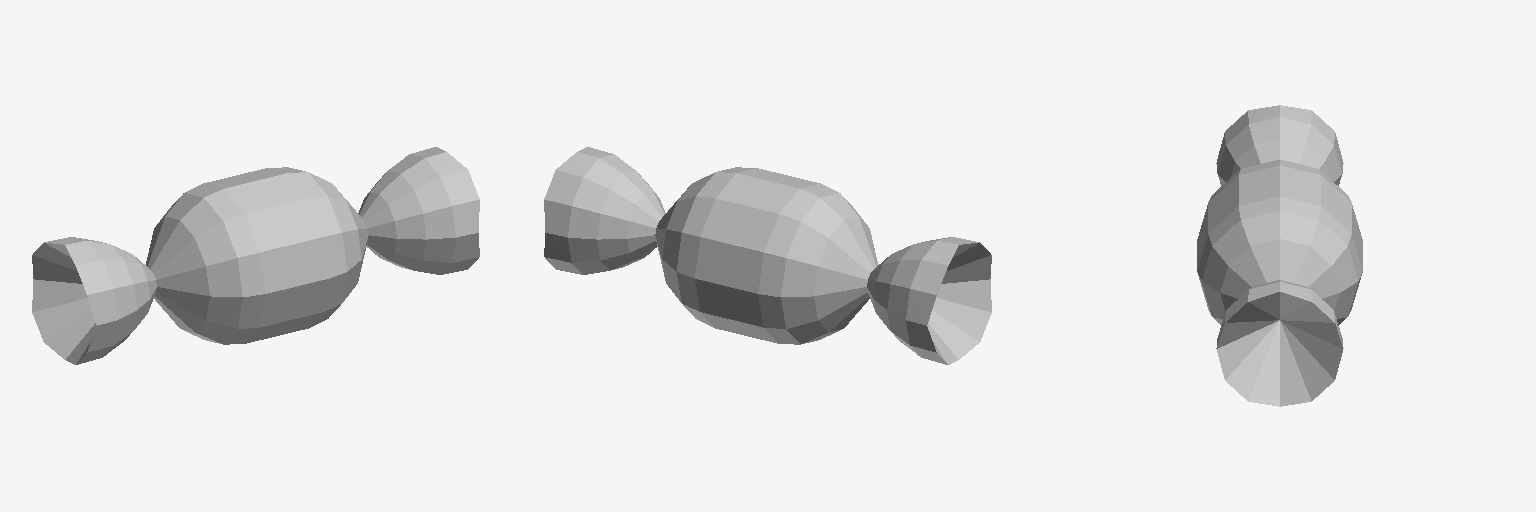
Rendered from sasdasd.obj.
3 views of the same model, side by side, from view 1: azimuth 30°, elevation 25°; view 2: azimuth 150°, elevation 25°; view 3: azimuth 270°, elevation 25° (orthographic).
Visible parts, largest first — view 1: candyA_Cylinder.012; view 2: candyA_Cylinder.012; view 3: candyA_Cylinder.012.
Boxes of the visible parts, x1,y1,x2,y2 form: candyA_Cylinder.012: [32, 147, 479, 364]; candyA_Cylinder.012: [544, 147, 991, 364]; candyA_Cylinder.012: [1197, 105, 1362, 406].
Size of the model in its own units: 0.9694 by 0.3546 by 0.3546.